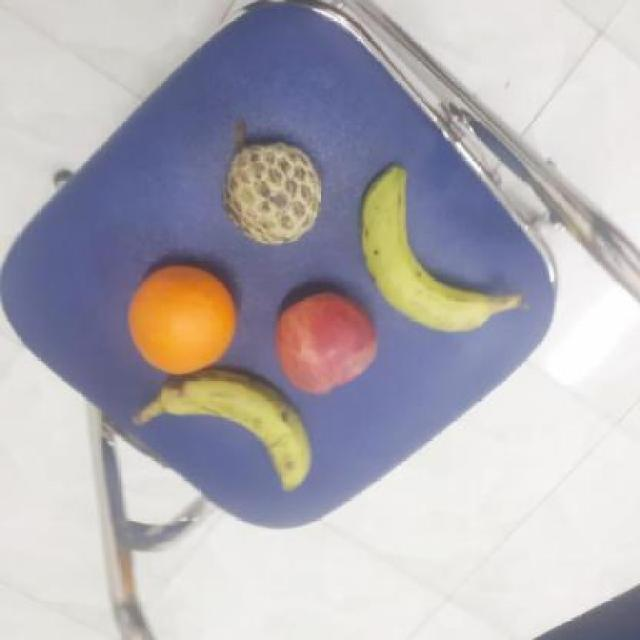banana: (355, 162, 503, 338), (156, 368, 318, 500), (270, 289, 382, 400)
oren: (125, 261, 238, 377)
sugar apple: (219, 140, 324, 248)
